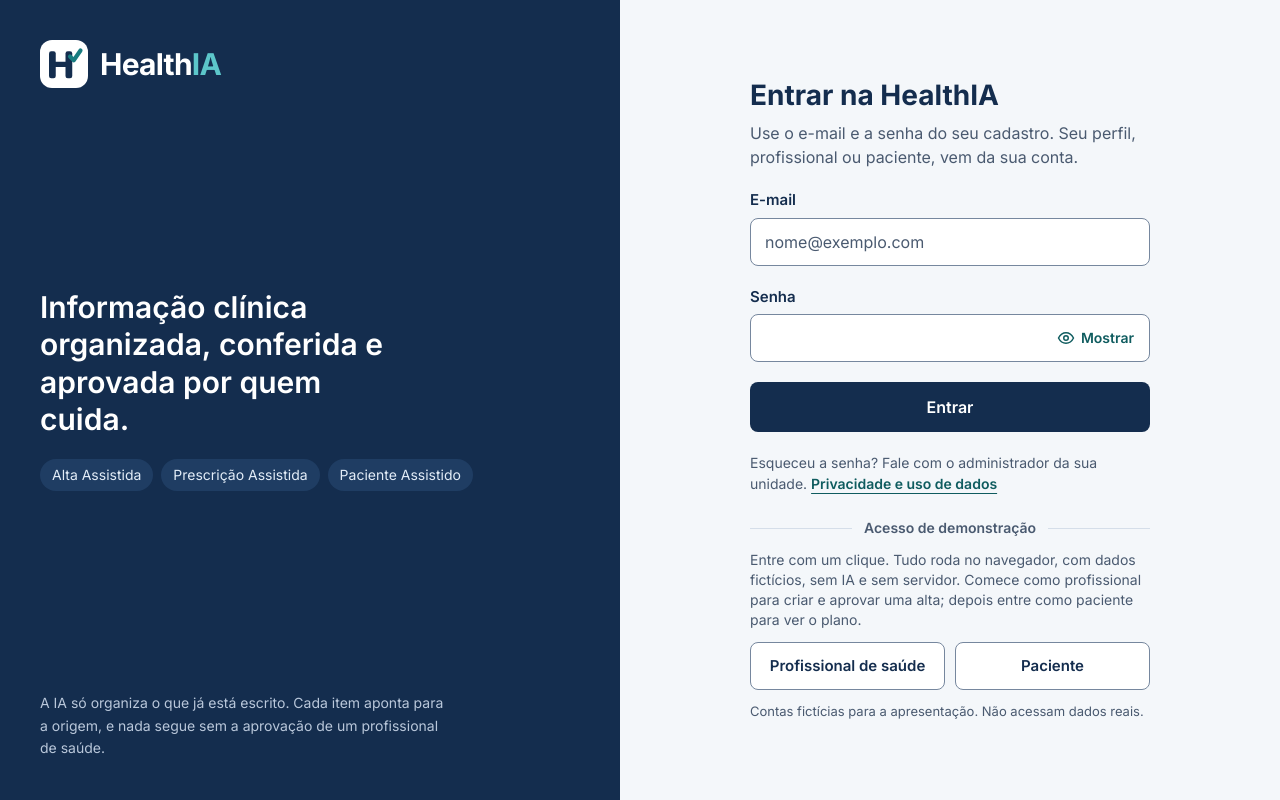
it: Acesso às telas › o paciente vê só o próprio plano e consegue sair
Click the button named "Paciente (demonstração)": (1052, 666) 955,642 -> 1150,690
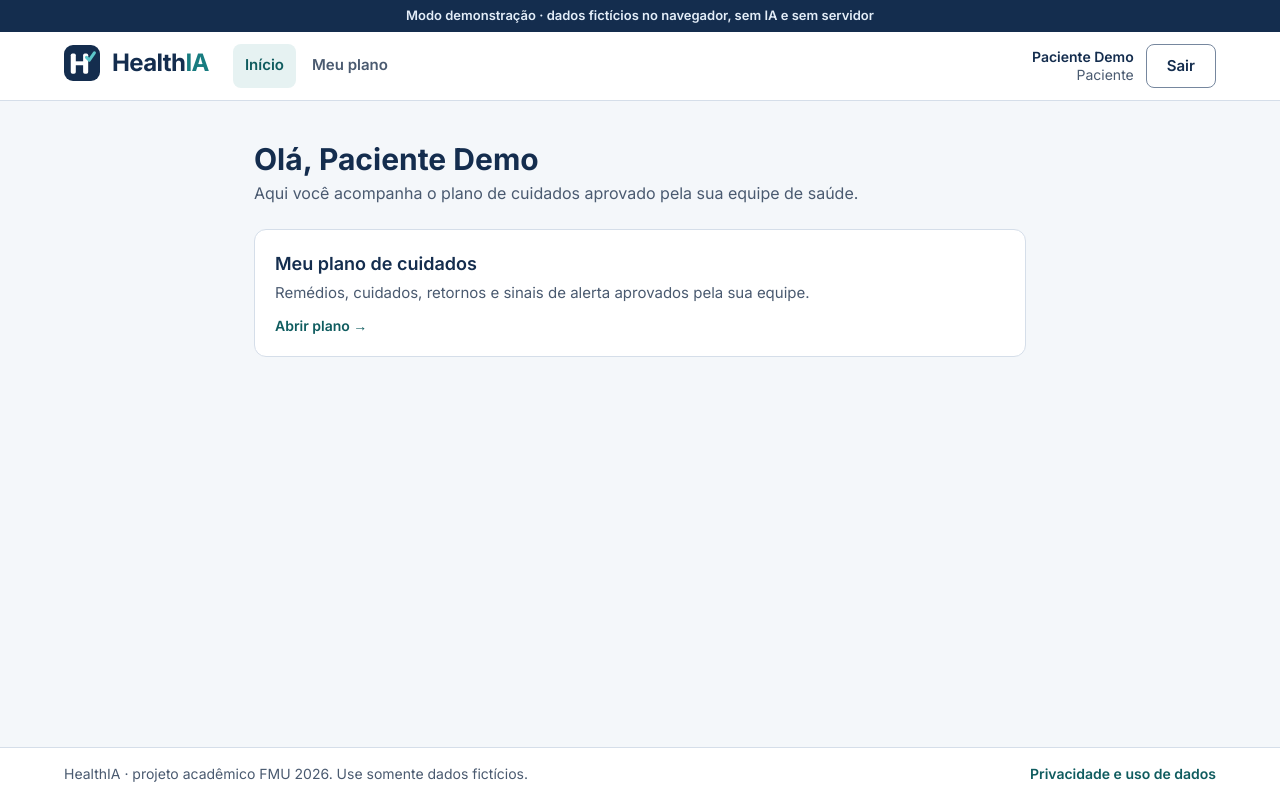
Expected: the heading "Meu plano de cuidados" is shown, 275,252 -> 477,274
Expected: the list item "Prescrição Assistida" is gone
Click the button "Sair": (1181, 66) 1146,44 -> 1216,88
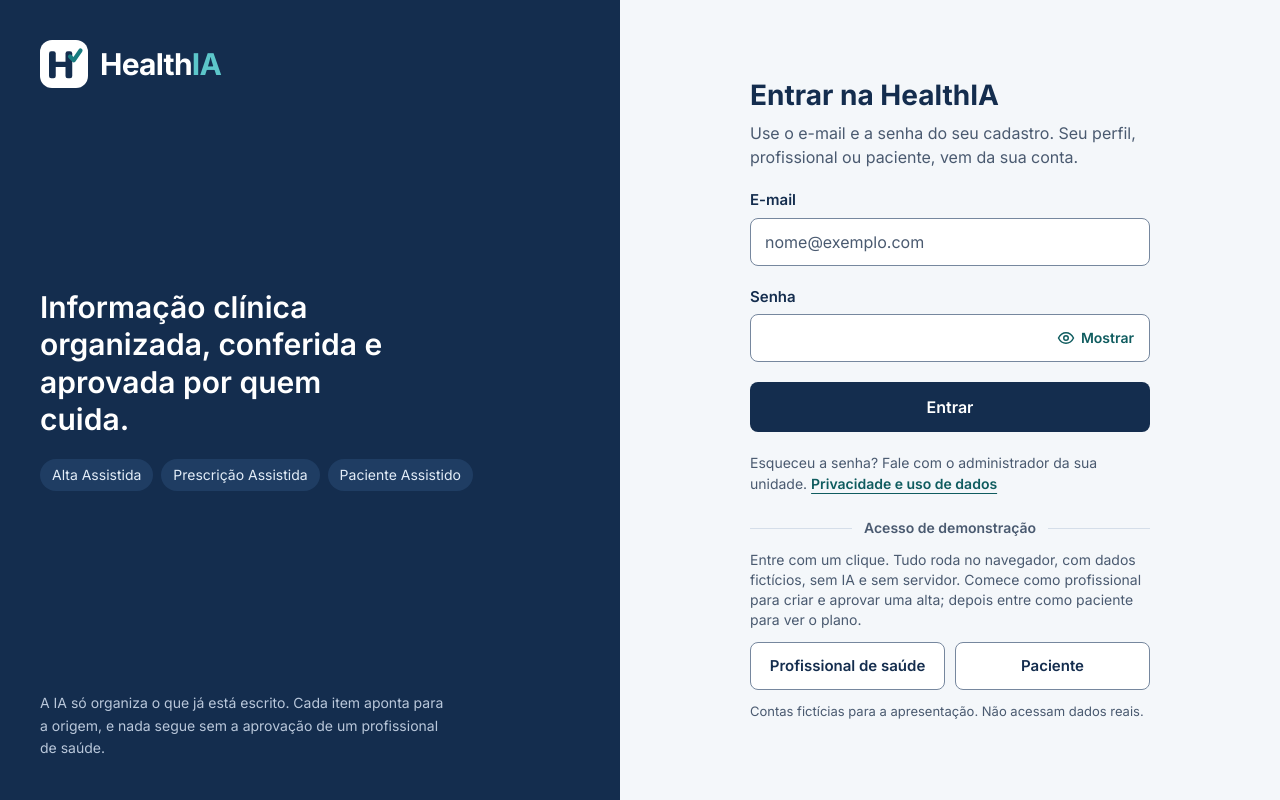
Expected: the heading "Entrar na HealthIA" is shown, 750,78 -> 999,112
